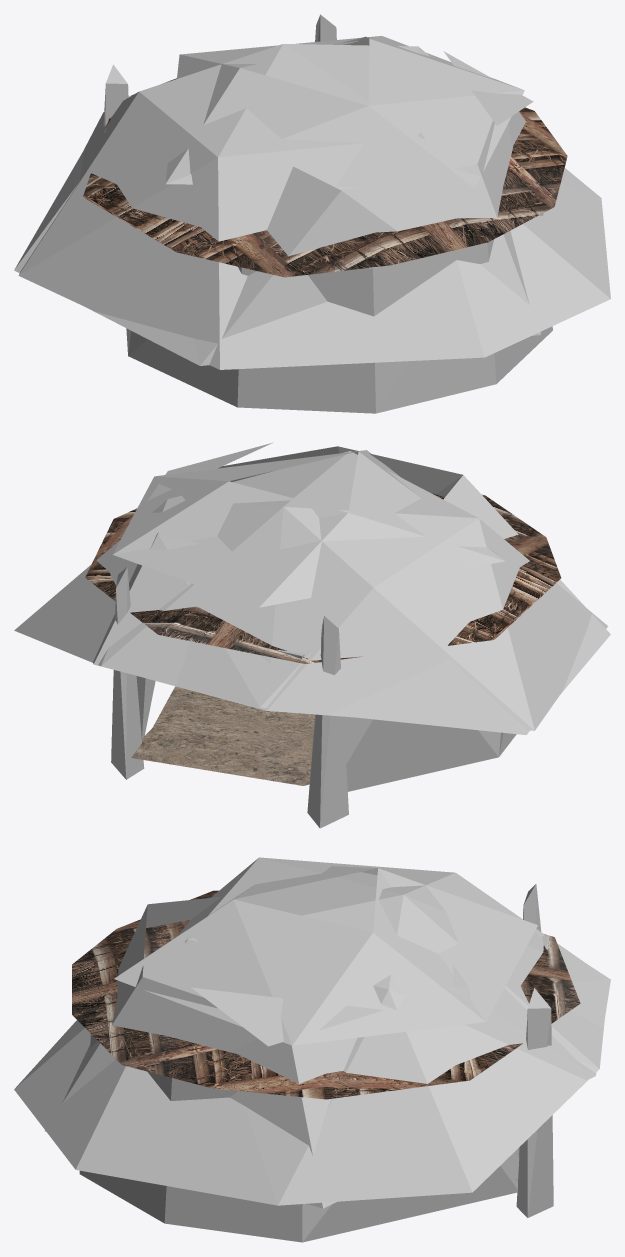
Rendered from Sty_1_LOD4.fbx.
The picture shows the model from 3 angles, top to bottom: view 1: azimuth 30°, elevation 25°; view 2: azimuth 150°, elevation 25°; view 3: azimuth 270°, elevation 25°; orthographic projection. The views are drawn at different scales.
Parts seen in each view (by area): view 1: Alpha, Wood, Roof; view 2: Alpha, Wood, Ground, Roof; view 3: Alpha, Wood, Roof.
Boxes of the visible parts, x1,y1,x2,y2 form: Alpha: (14, 36, 610, 369); Wood: (103, 14, 552, 413); Roof: (83, 78, 567, 277); Alpha: (14, 442, 610, 734); Wood: (111, 567, 516, 828); Ground: (131, 686, 314, 785); Roof: (85, 493, 561, 663); Alpha: (14, 857, 610, 1208); Wood: (79, 884, 553, 1242); Roof: (72, 890, 580, 1099).
Bounding box in the file's own units: 808 × 770 × 378.
